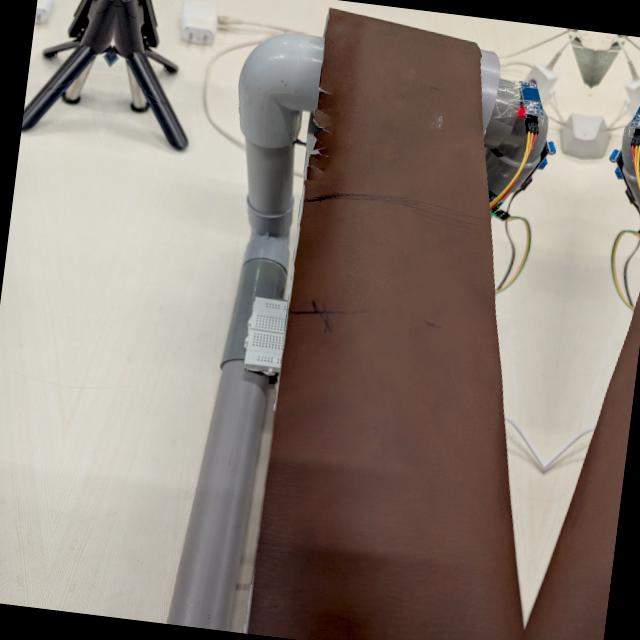edge_damage: (293, 69, 347, 204)
